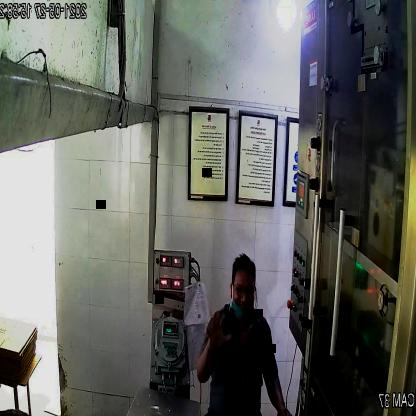goggles: (226, 281, 260, 299)
